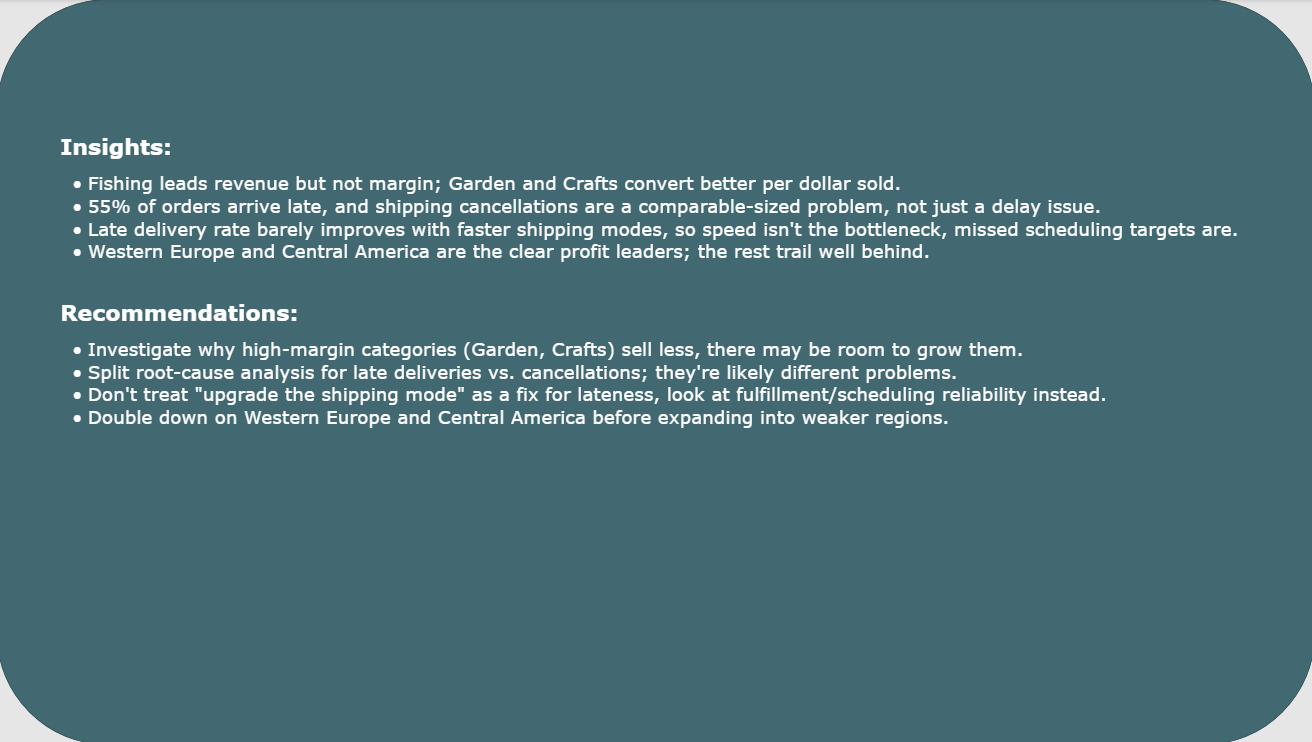

The dashboard page shown, as its layout file describes it:
{"tool":"powerbi","page":{"name":"Insights & Recommendation","canvas":[1920,1080],"ordinal":1},"visuals":[{"type":"shape","box":[10.9,0,1909.2,1080.4],"z":0},{"type":"textbox","box":[103.2,193.6,1726.4,555.6],"z":1}]}

Visuals, with their boxes in screenshot pixels (x1, y1, x2, y2), scaled from the page's 1920x1080 canvas onto the 1312x742 screenshot:
shape: pyautogui.locateOnScreen(7, 0, 1311, 741)
textbox: pyautogui.locateOnScreen(71, 133, 1250, 515)
